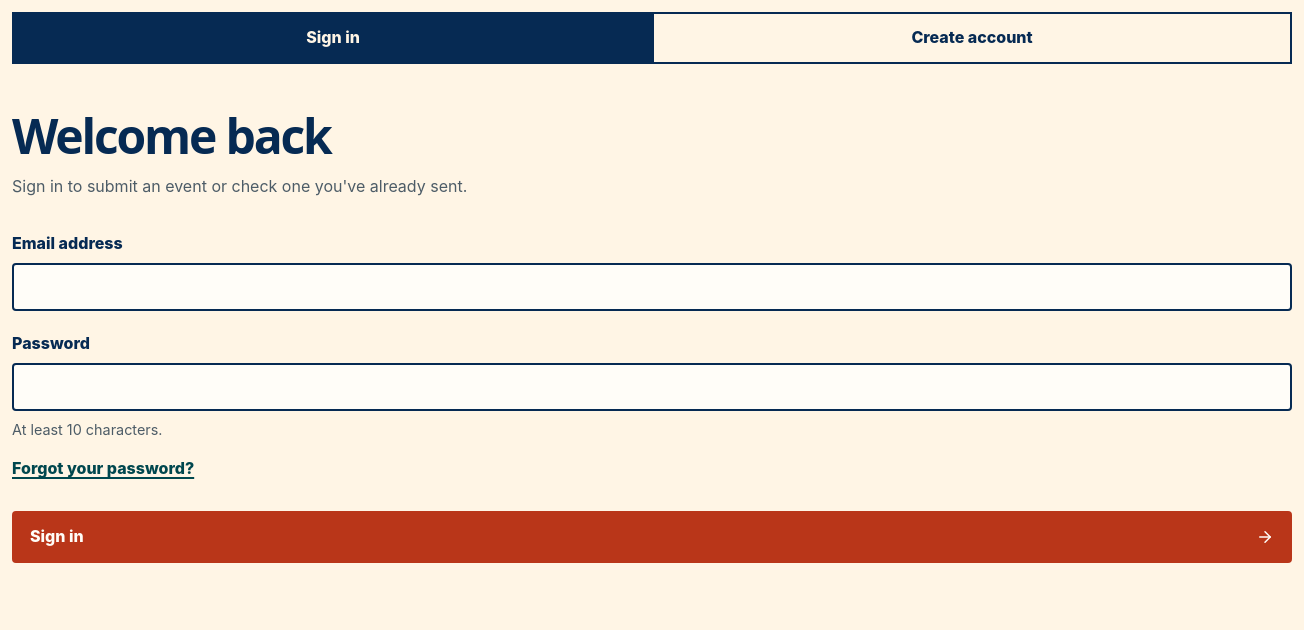
Test case: AuthForm › creates an account and asks the person to verify their email
Click the button "Create account" at (971, 38), box 652,14 -> 1290,62
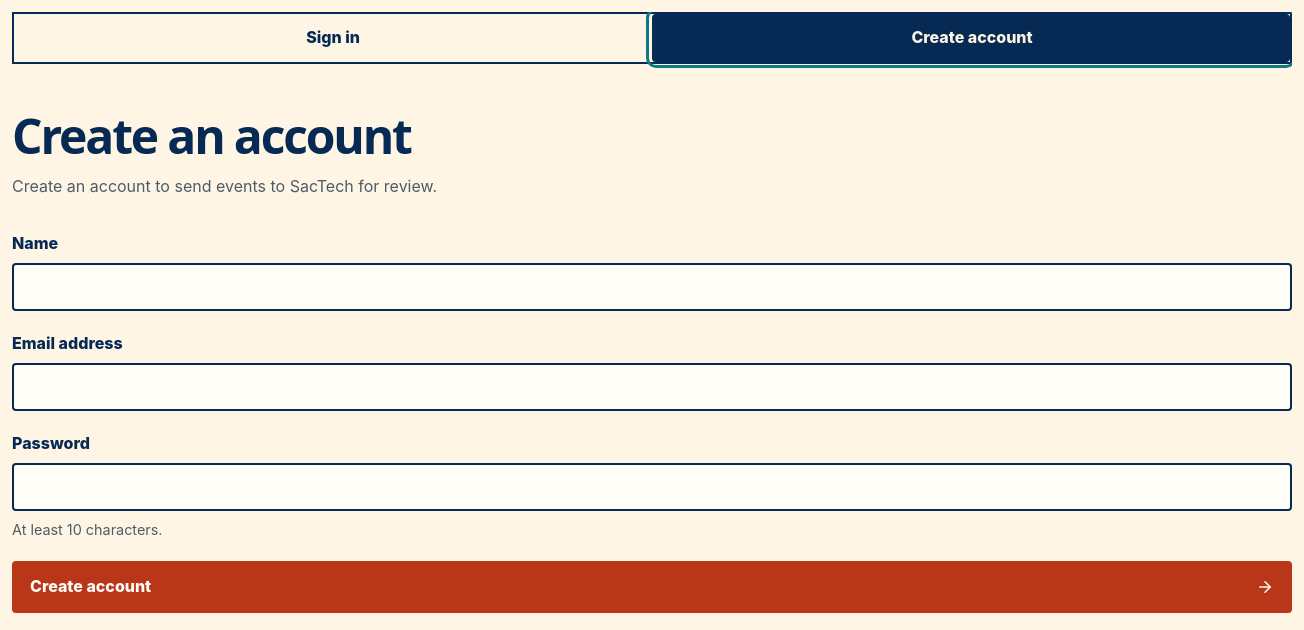
Expected: the heading "Create an account" is shown, 12,103 -> 411,168
Type "Pat Lee" into the field labelled "Name" at (652, 287), box 12,263 -> 1292,311
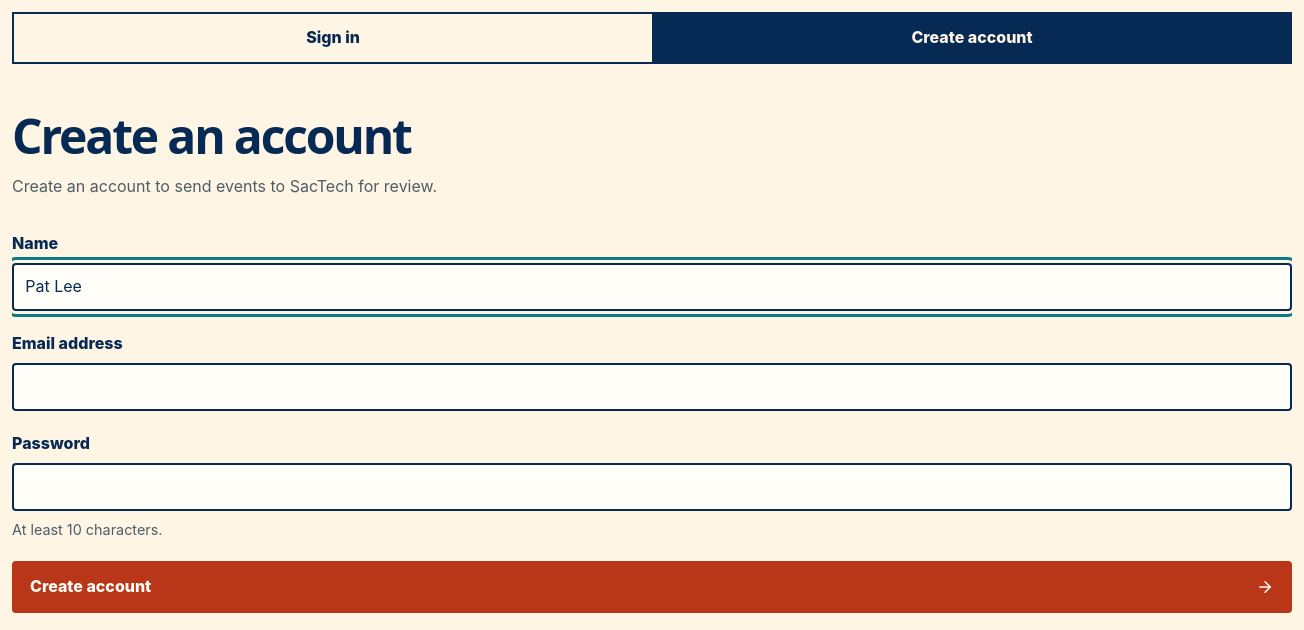
Type "person@example.com" into the field labelled "Email address" at (652, 387), box 12,363 -> 1292,411
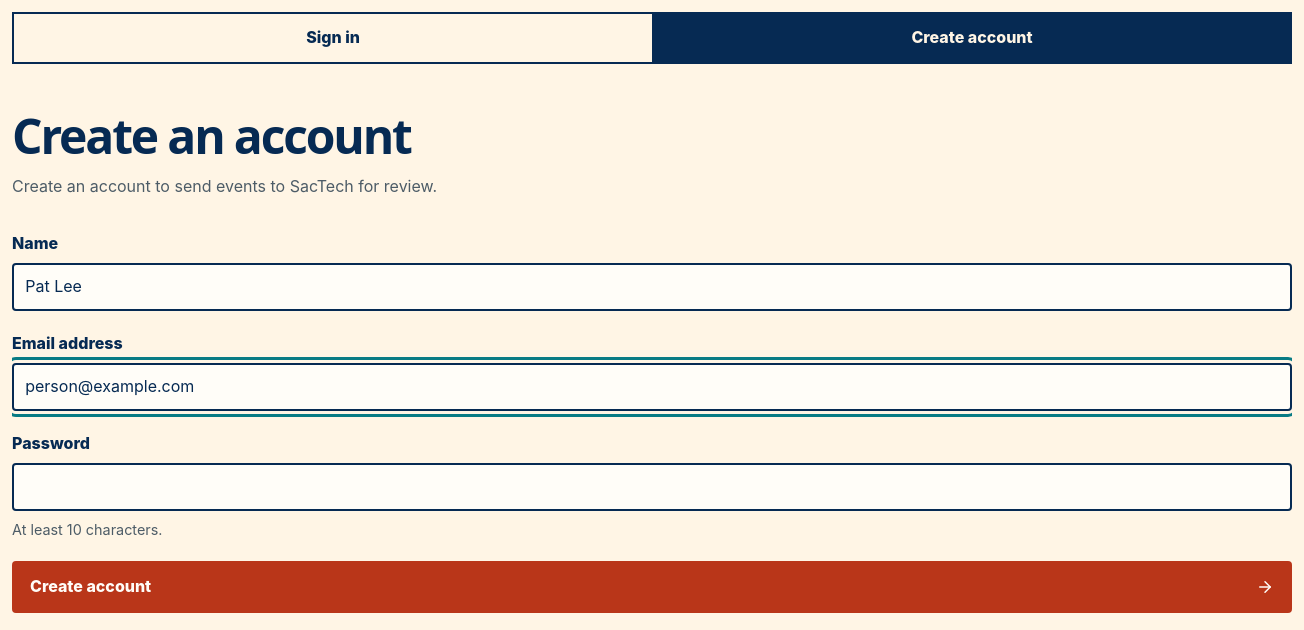
Type "a secure password" into the password field labelled "Password" at (652, 487), box 12,463 -> 1292,511
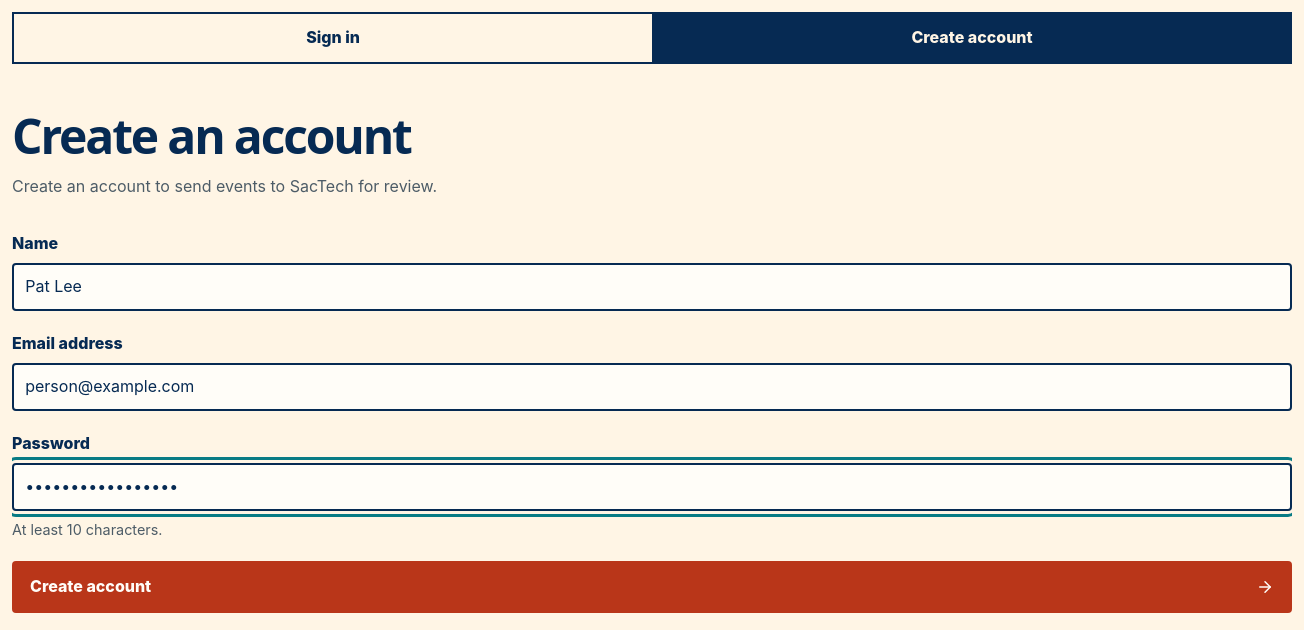
Click the button "Create account" below "At least" at (91, 586), box 12,561 -> 1292,613
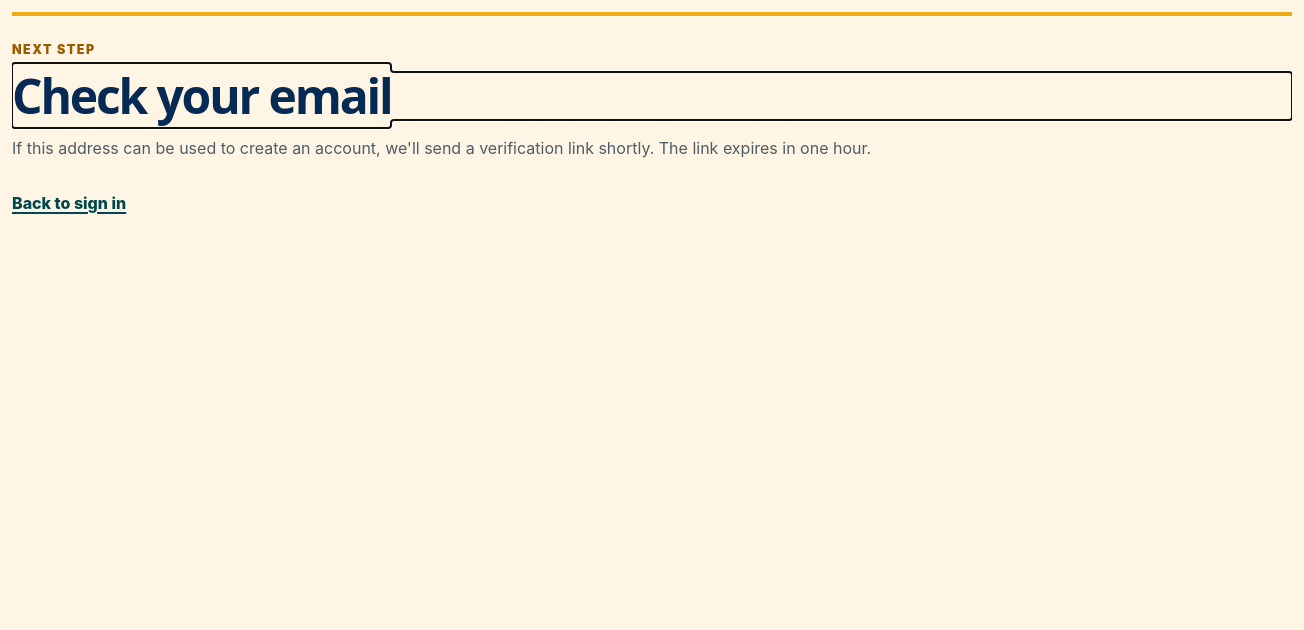
Expected: the heading "Check your email" is shown, 12,63 -> 392,128
Expected: the message shows "If this address can be used to create an account, we'll send a verification link shortly", 12,138 -> 871,158
